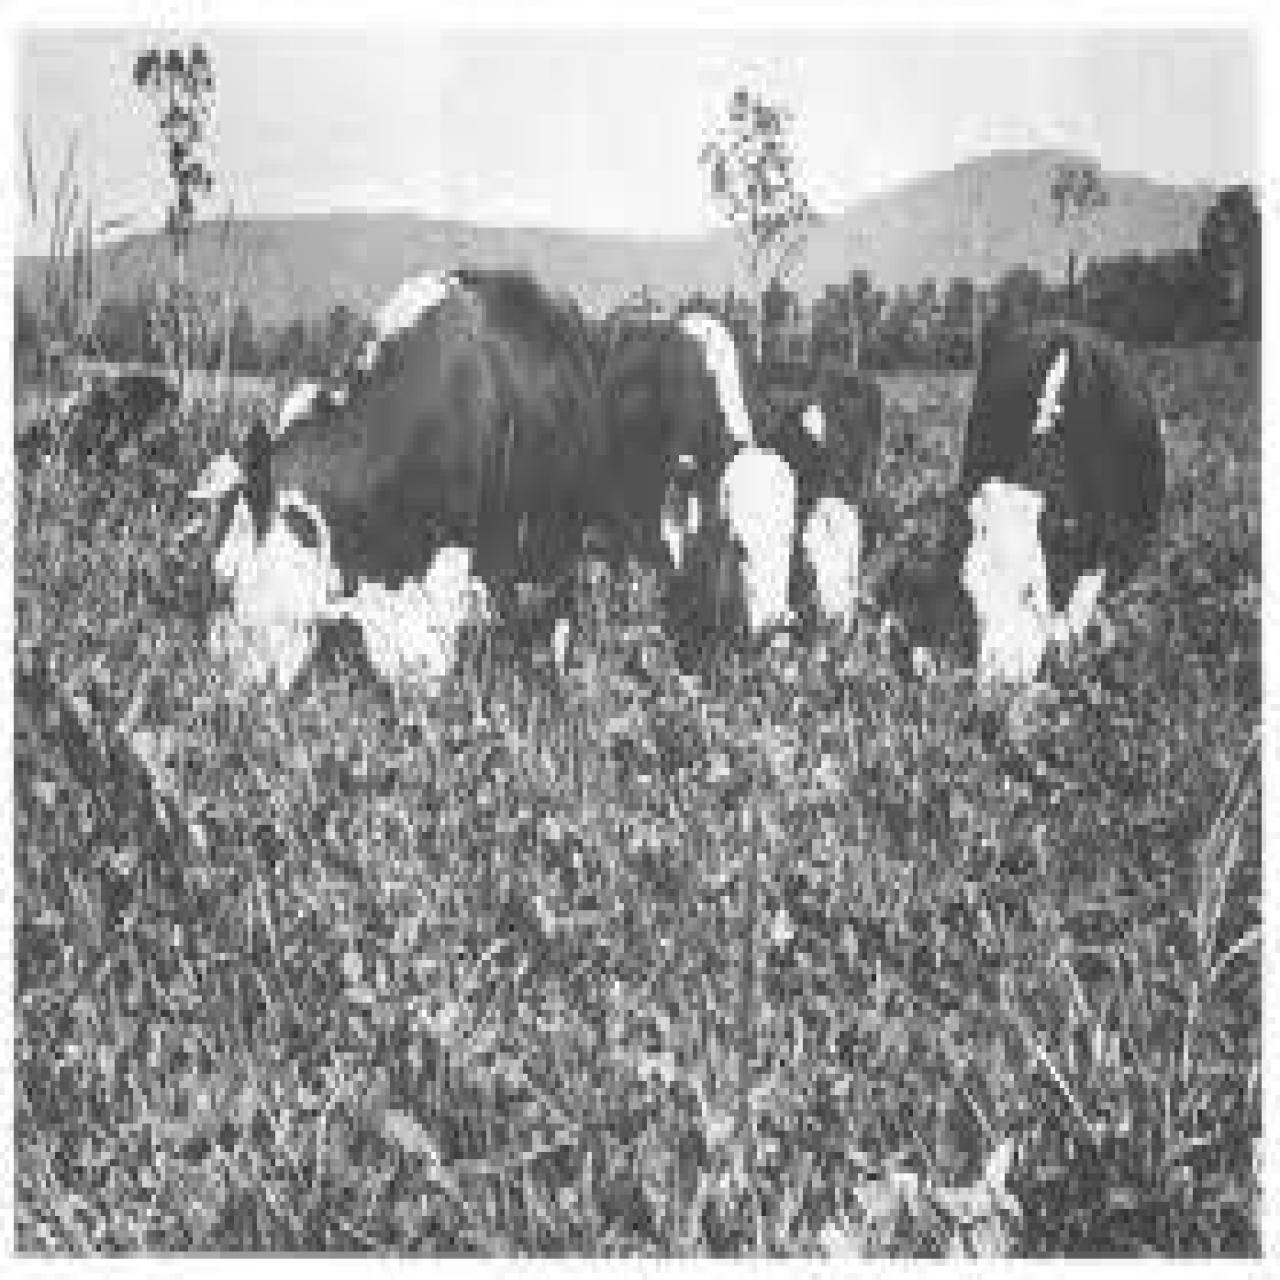cow: (206, 270, 601, 704), (949, 316, 1165, 701), (607, 302, 801, 665), (791, 362, 887, 654)
